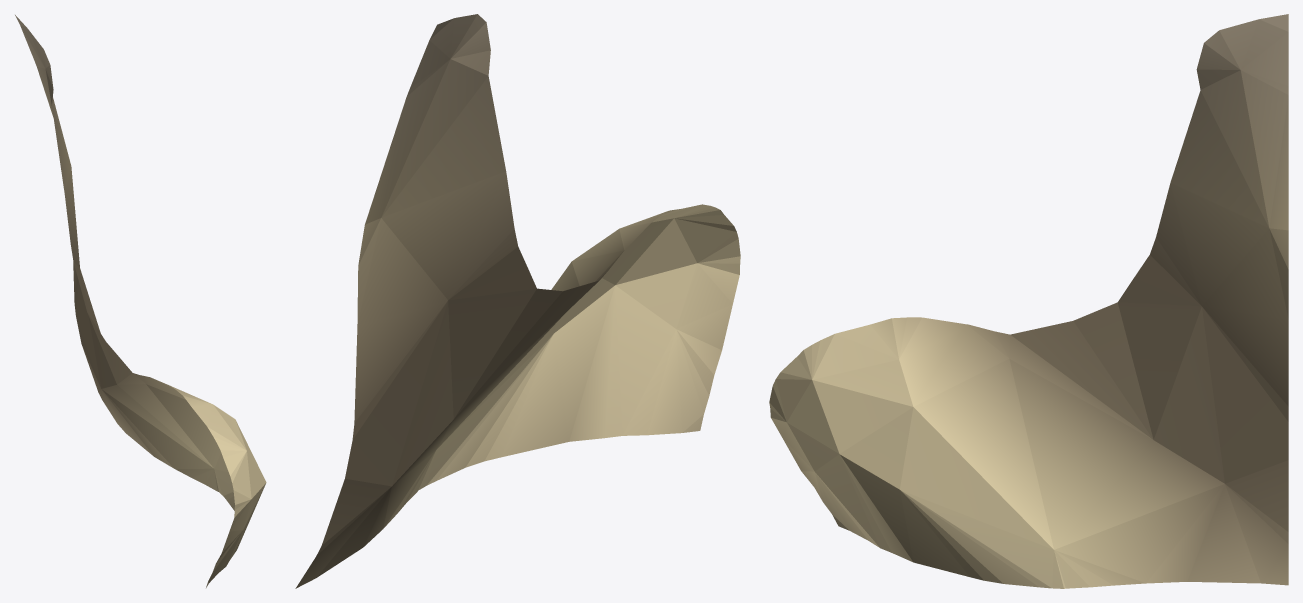
Rendered from bisect-7-3-9.gltf.
3 views of the same model, side by side, from view 1: azimuth 30°, elevation 25°; view 2: azimuth 150°, elevation 25°; view 3: azimuth 270°, elevation 25° (orthographic). The views are drawn at different scales.
Visible parts, largest first — view 1: bisect-7-3-9; view 2: bisect-7-3-9; view 3: bisect-7-3-9.
Boxes of the visible parts, left/top/right/bottom form: bisect-7-3-9: left=15, top=15, right=266, bottom=587; bisect-7-3-9: left=295, top=14, right=740, bottom=588; bisect-7-3-9: left=769, top=14, right=1288, bottom=588.
Bounding box in the file's own units: 4.81 × 18.3 × 16.82.
